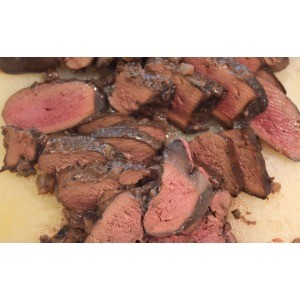liver_brain food: (90, 97, 175, 210)
